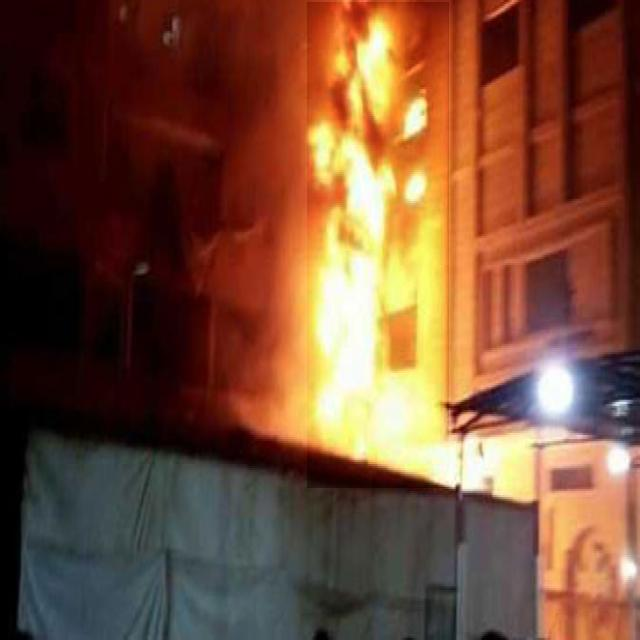Fire: (308, 2, 450, 488)
